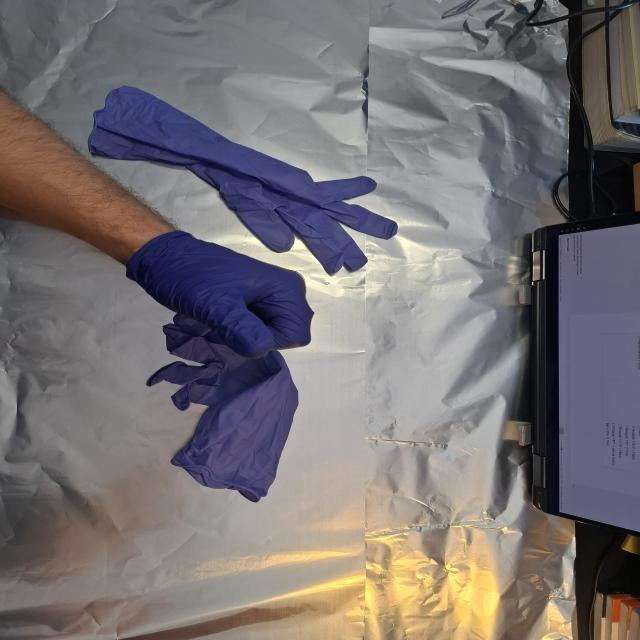glove_on: (123, 229, 317, 360)
